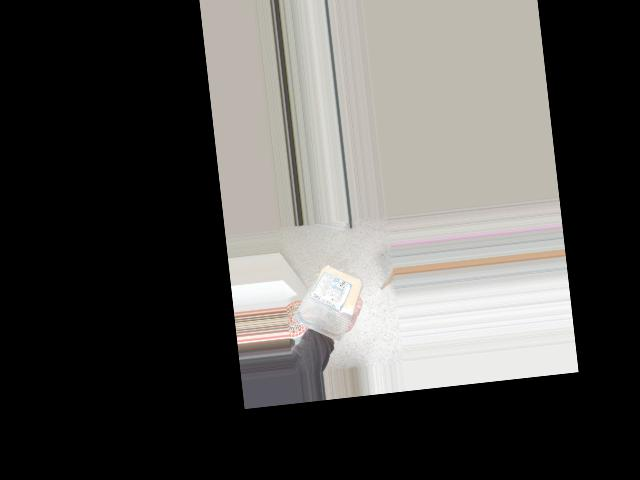cheese: (293, 259, 362, 337)
